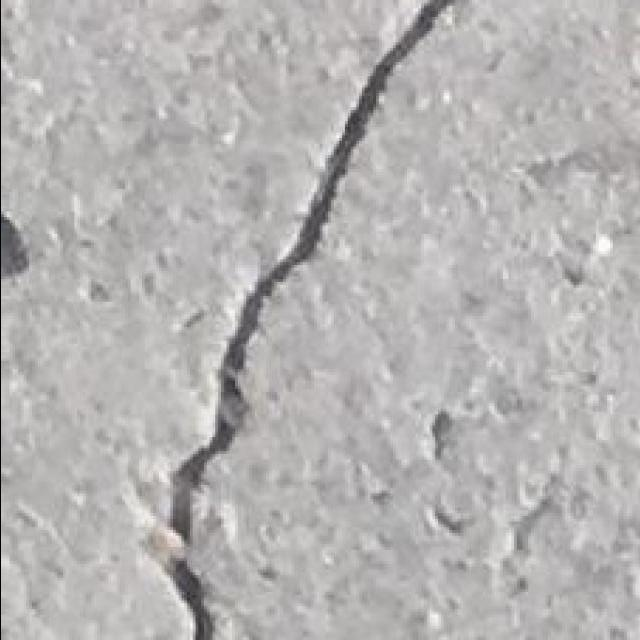crack: (144, 0, 456, 636), (297, 0, 481, 193), (519, 144, 635, 273), (139, 516, 220, 638)
